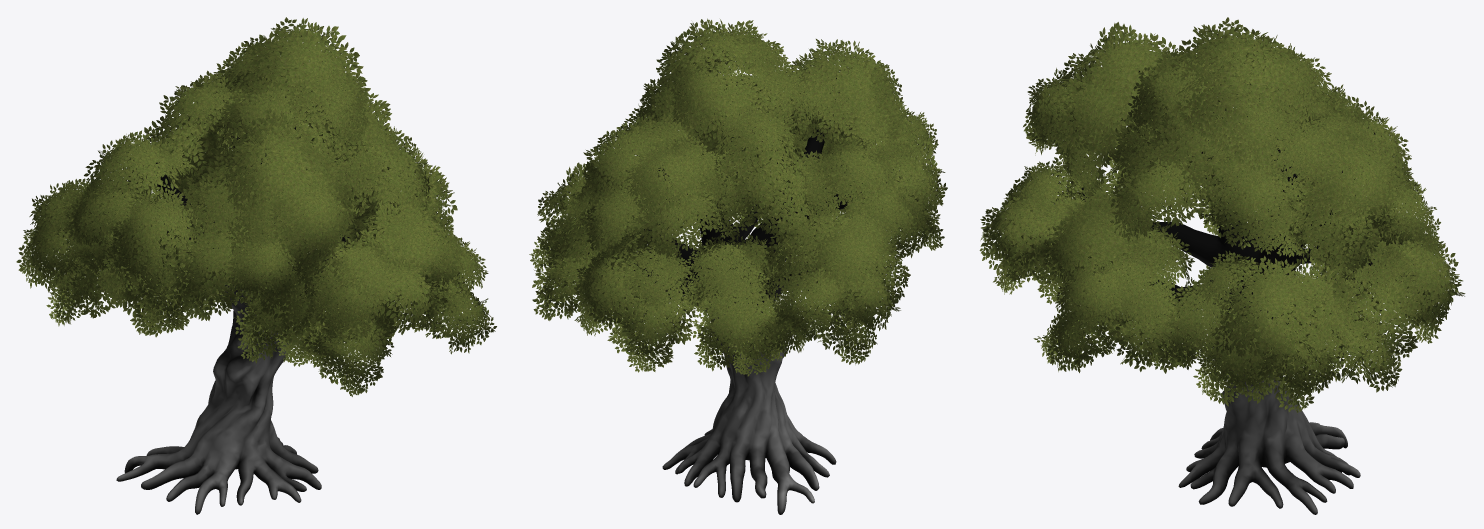
File: MSH_fwOF_Tree_Large_01.fbx
3 views of the same model, side by side, from view 1: azimuth 30°, elevation 25°; view 2: azimuth 150°, elevation 25°; view 3: azimuth 270°, elevation 25° (orthographic). The views are drawn at different scales.
Parts seen in each view (by area): view 1: MSH_fwOF_Tree_Large_01_LOD0; view 2: MSH_fwOF_Tree_Large_01_LOD0; view 3: MSH_fwOF_Tree_Large_01_LOD0.
Boxes of the visible parts, <box> form: MSH_fwOF_Tree_Large_01_LOD0: <box>16,17,496,514</box>; MSH_fwOF_Tree_Large_01_LOD0: <box>529,18,947,514</box>; MSH_fwOF_Tree_Large_01_LOD0: <box>979,17,1465,514</box>.
Size of what is drawn, in the model's own units: 15.5 by 16.78 by 15.44.
